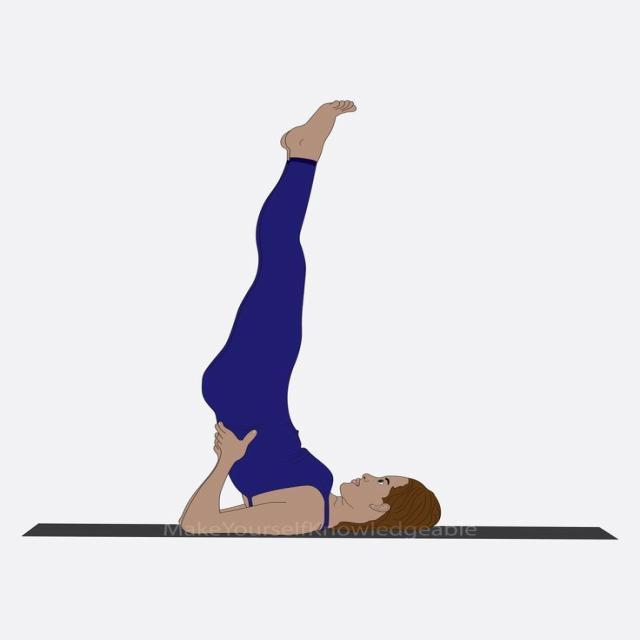yoga-pose shoulderstand: (178, 90, 444, 538)
